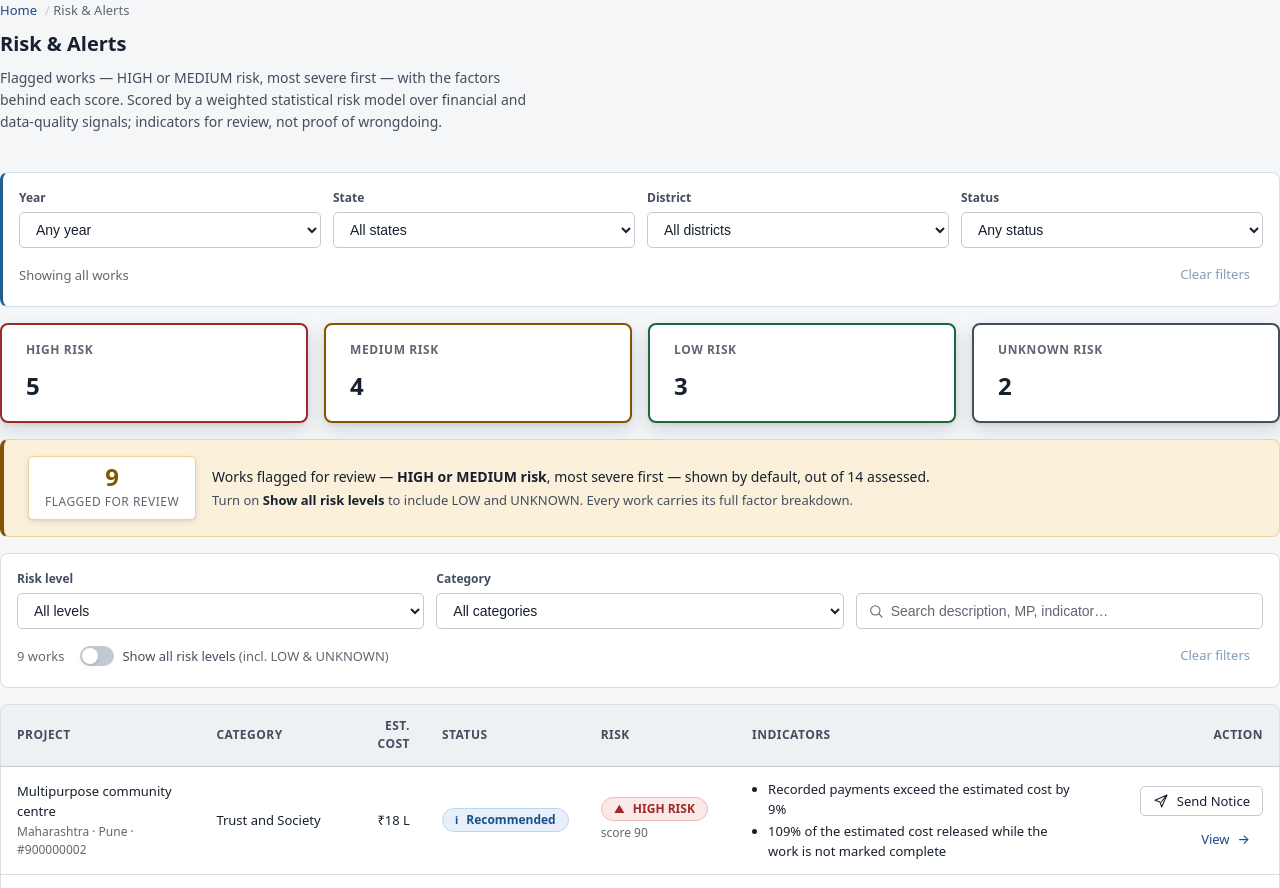
it: RiskAlerts › sends an attention notice for a flagged work and confirms it with a toast
The width and height of the screenshot is (1280, 888).
Click the button "Send Notice" in the row of "Multipurpose community centre" at point(1201, 801), box [1140,786,1263,816]
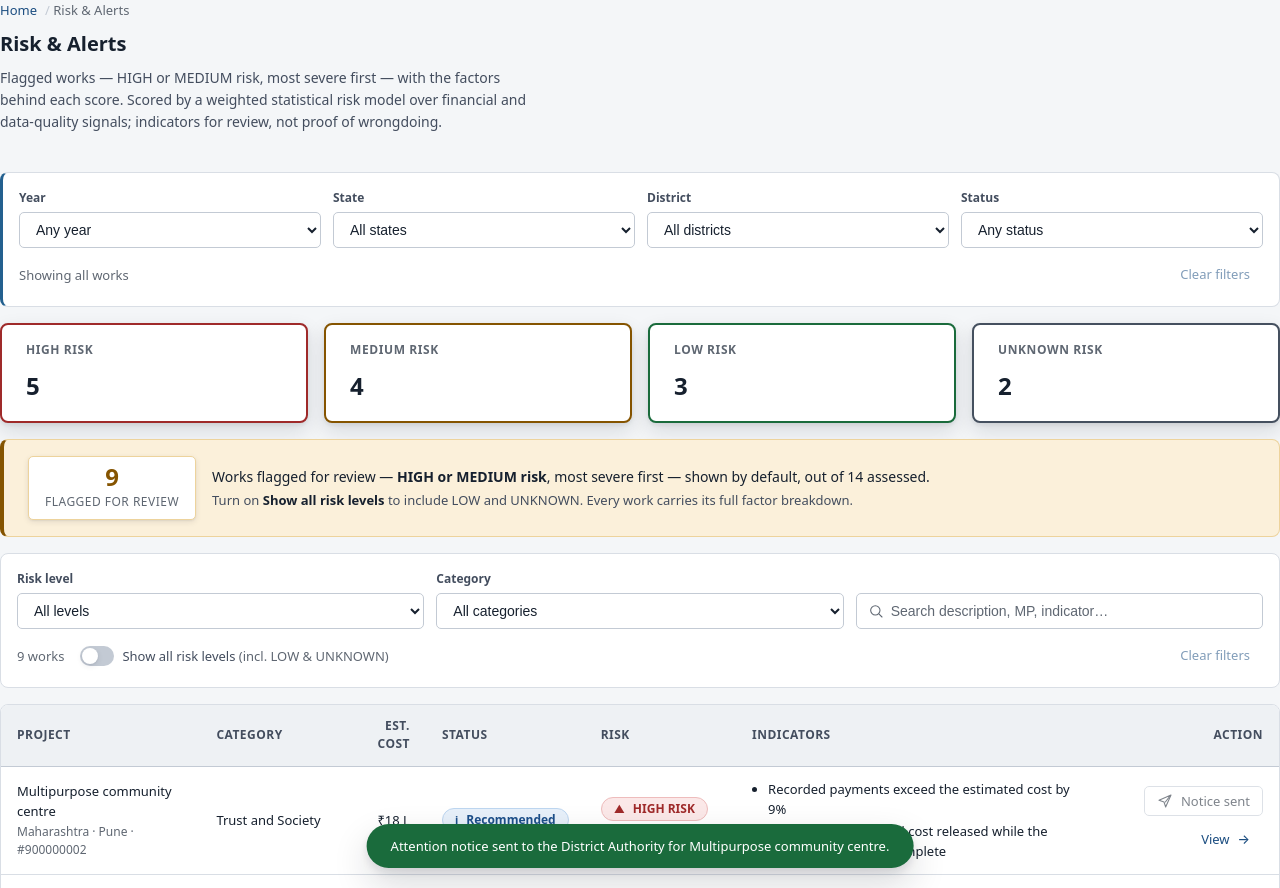
Expected: the text "Attention notice sent to the District Authority" is shown, [391,837,889,855]
Expected: the button "Notice sent" is disabled, [1144,786,1263,816]
